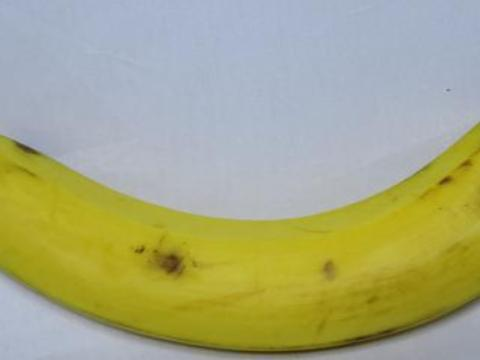freshripe: (0, 111, 479, 359)
